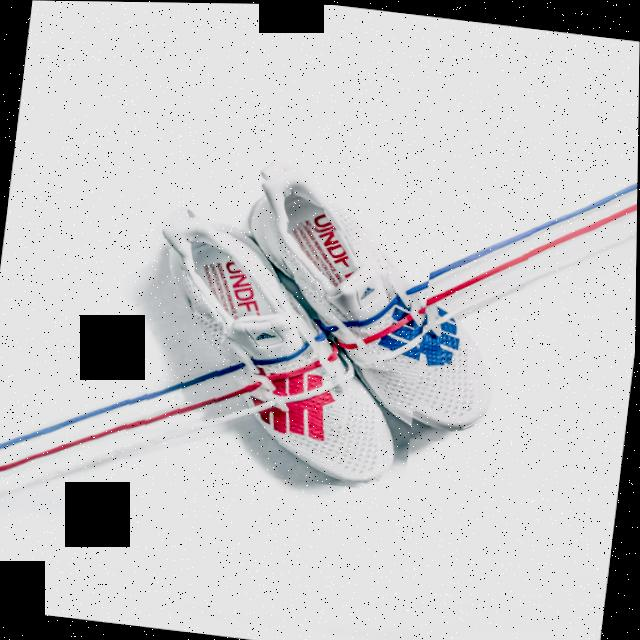shoe: (202, 150, 537, 448), (120, 200, 435, 493)
